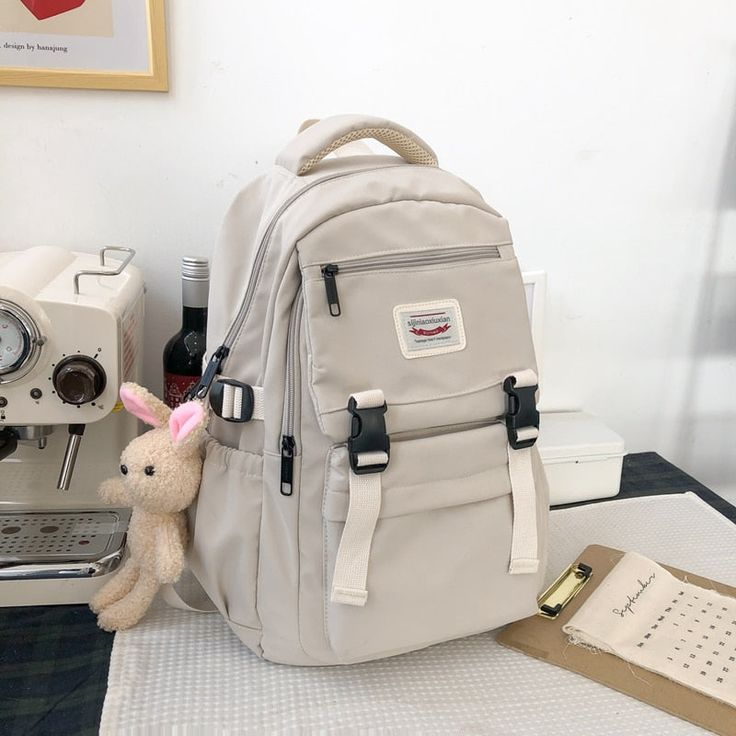nylon: (190, 115, 551, 667)
